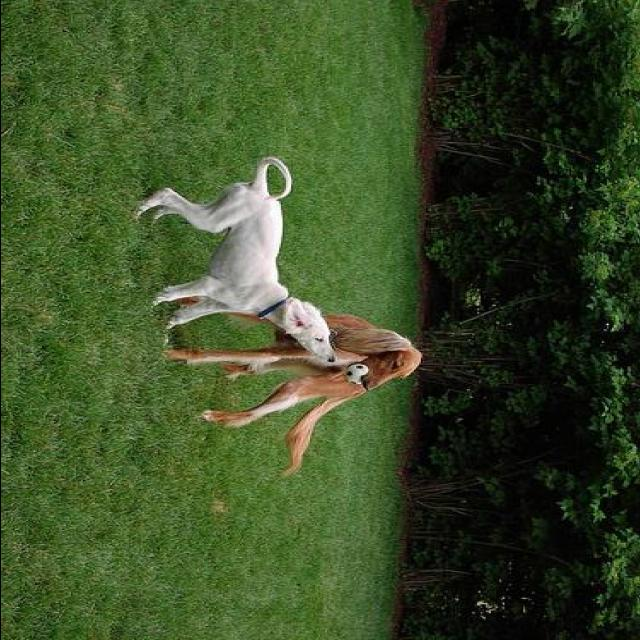saluki: (168, 293, 424, 479)
